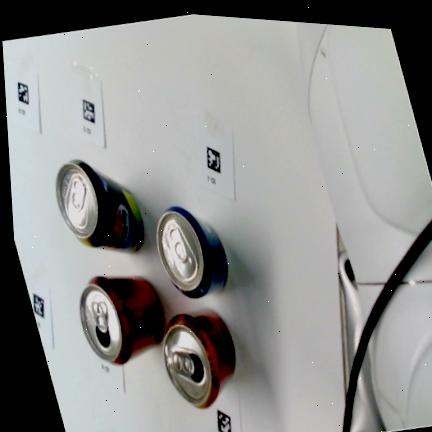can_coke_decaf: (164, 309, 236, 409)
can_coke_zero: (80, 276, 165, 364)
can_pepsi: (157, 206, 228, 298)
can_pepsi_zero: (56, 159, 143, 253)
